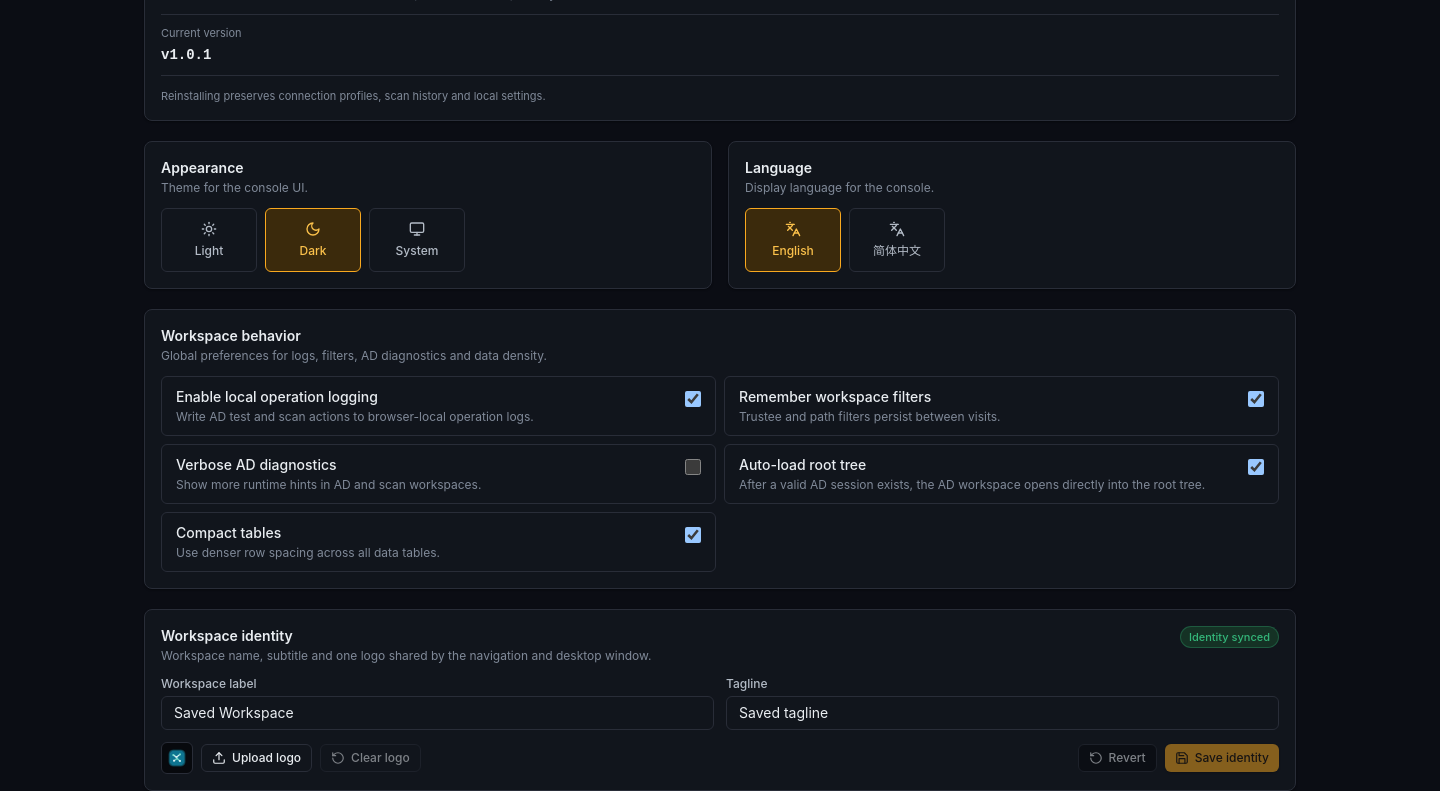
SettingsPage › reverts unsaved workspace identity edits without changing persisted settings
(page scrolled)
Step 1. Replace the text in the field showing "Saved tagline" with "Draft tagline" → x=1002, y=712, box [726,696,1279,730]
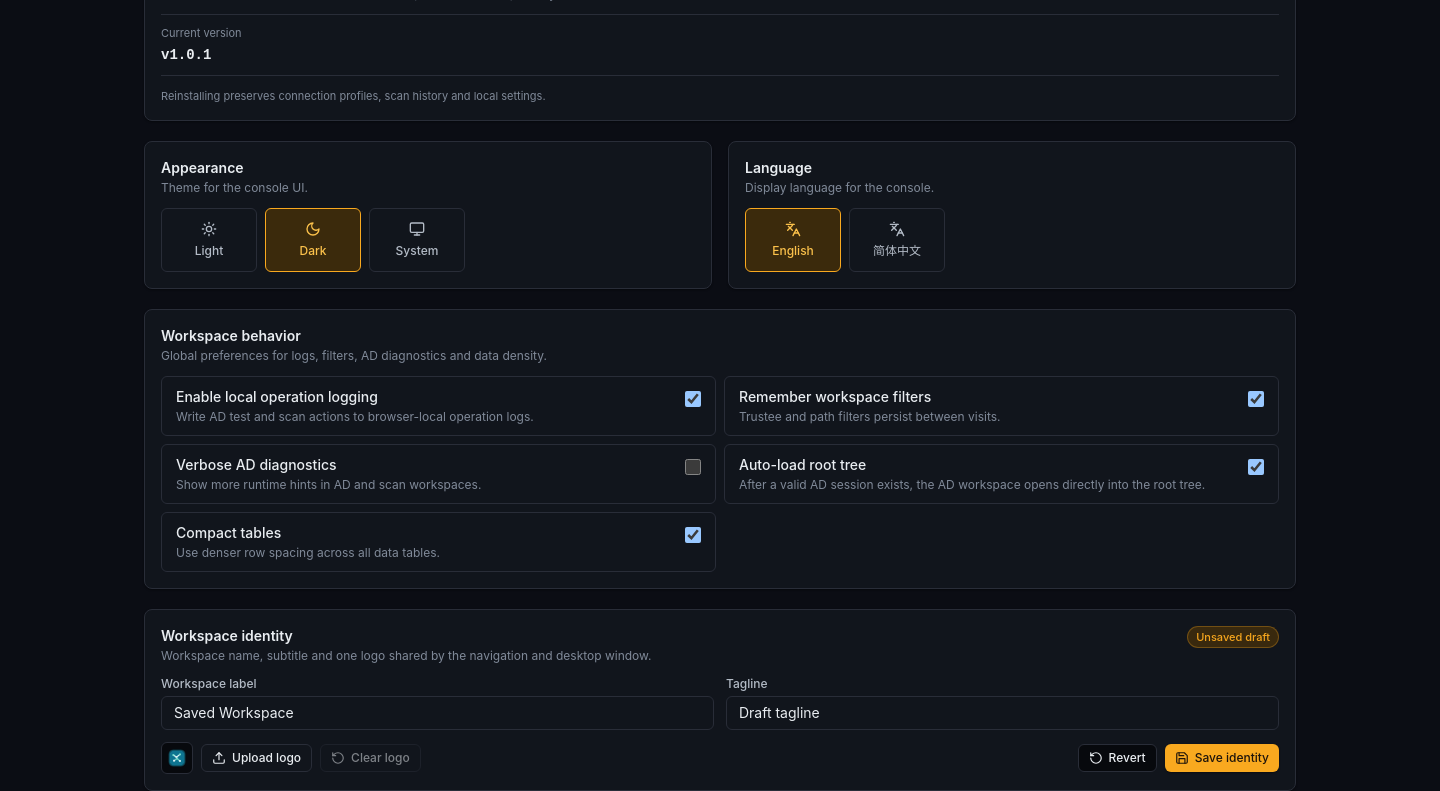
Step 2. Click the button "Revert" → x=1117, y=758, box [1078,744,1157,772]
(page scrolled)
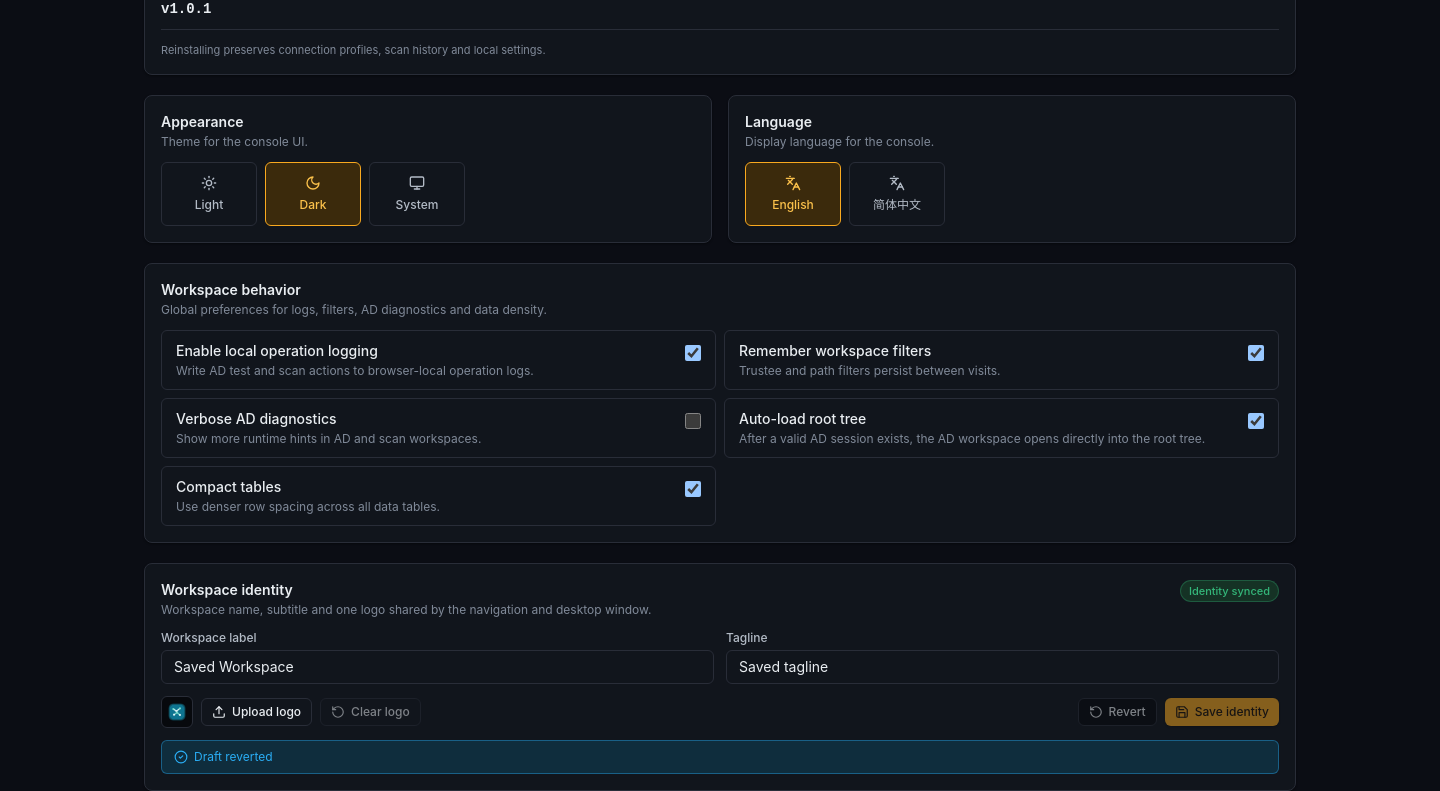
Expected: the field showing "Saved tagline" is shown, [726,650,1279,684]
Expected: the text "Draft reverted" is shown, [161,740,1279,774]
